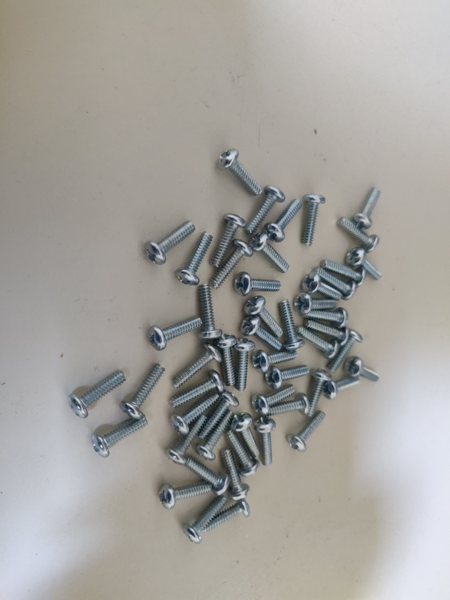shortscrew: (68, 371, 127, 419), (121, 363, 166, 420), (92, 417, 149, 459), (144, 221, 196, 265), (173, 343, 222, 389), (182, 496, 227, 545), (210, 239, 253, 290), (169, 370, 225, 409), (166, 413, 208, 465), (217, 149, 262, 197), (175, 231, 214, 286), (170, 393, 219, 436), (199, 390, 239, 441), (211, 213, 247, 269), (245, 186, 286, 235), (195, 409, 234, 460), (184, 455, 230, 496), (148, 317, 203, 351), (263, 198, 303, 243), (202, 498, 251, 534), (243, 296, 284, 338), (226, 428, 260, 478), (287, 410, 327, 452), (328, 327, 363, 374), (338, 217, 381, 255), (250, 234, 291, 273), (221, 448, 251, 501), (312, 267, 357, 300), (159, 481, 212, 509), (251, 384, 297, 416), (303, 369, 333, 418), (296, 326, 340, 359), (278, 299, 305, 351), (241, 317, 282, 351), (231, 413, 261, 459), (199, 284, 223, 340), (302, 195, 327, 247), (320, 260, 366, 288), (214, 335, 238, 387), (233, 338, 256, 392), (353, 186, 381, 230), (345, 247, 382, 280), (261, 393, 311, 417), (264, 364, 310, 390), (301, 273, 342, 302), (234, 272, 281, 297), (252, 349, 298, 374), (321, 373, 360, 400), (255, 416, 276, 466), (344, 356, 380, 383), (294, 293, 337, 315), (303, 311, 349, 327)
